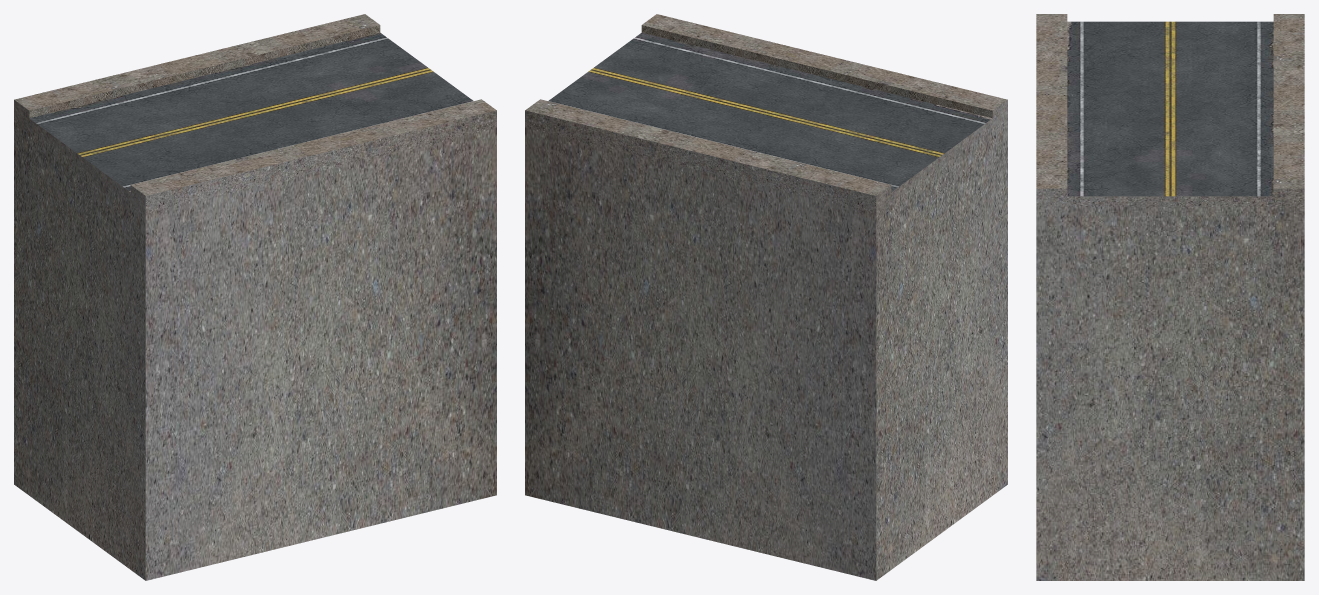
File: straight-short-empty.fbx
3 views of the same model, side by side, from view 1: azimuth 30°, elevation 25°; view 2: azimuth 150°, elevation 25°; view 3: azimuth 270°, elevation 25° (orthographic).
Parts seen in each view (by area): view 1: Plane.023; view 2: Plane.023; view 3: Plane.023.
Part boxes in pixels (x1,y1,x2,y2): Plane.023: [14, 14, 496, 580]; Plane.023: [525, 14, 1007, 580]; Plane.023: [1036, 14, 1304, 580].
Bounding box in the file's own units: 2001 × 2096 × 1300.
